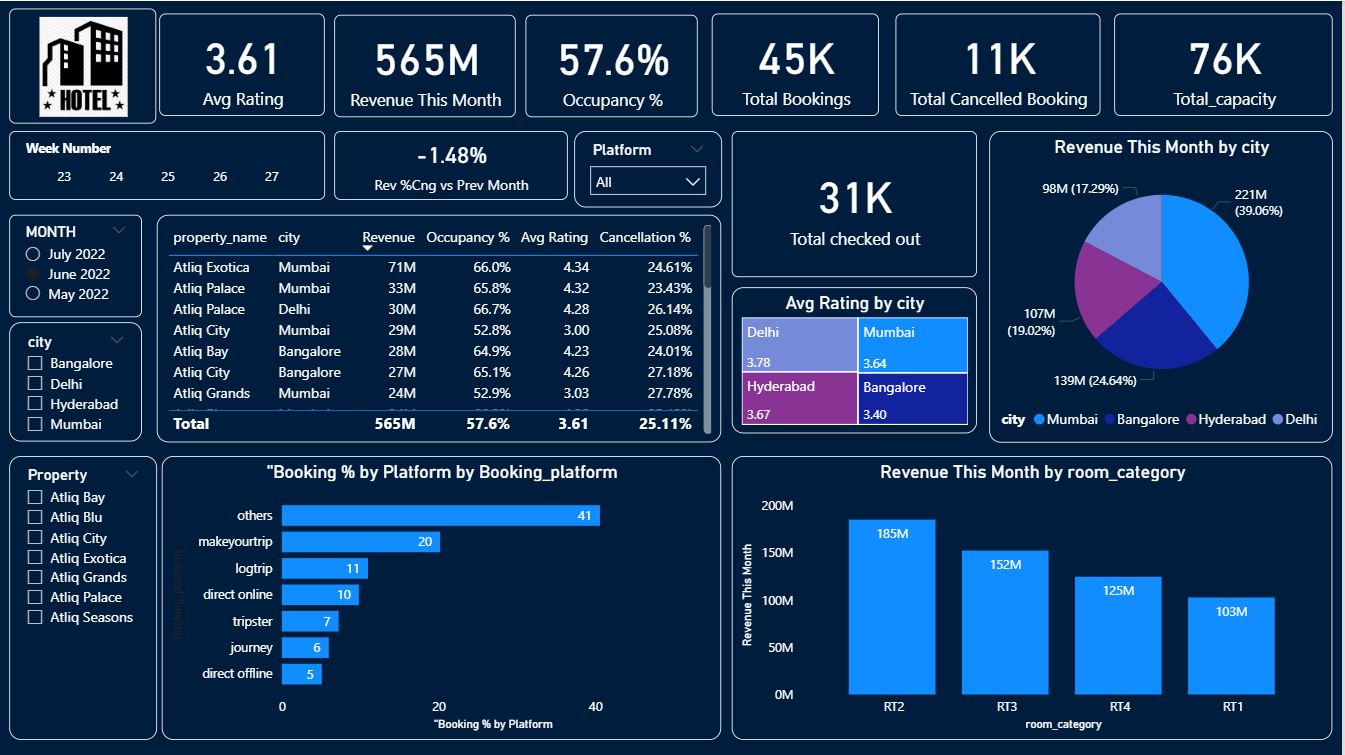

The dashboard page shown, as its layout file describes it:
{"tool":"powerbi","page":{"name":"Page 1","canvas":[1280,720],"ordinal":0},"visuals":[{"type":"barChart","fields":{"Category":["fact_bookings.booking_platform"],"Y":["key measures.\"Booking % by Platform"]},"box":[156.4,433.6,532.4,270.3],"z":0},{"type":"tableEx","fields":{"Values":["dim_hotels.property_name","dim_hotels.city","key measures.Revenue","key measures.Occupancy %","key measures.Avg Rating","key measures.Cancellation %"]},"box":[150.9,203.1,537.9,216.8],"z":1000},{"type":"slicer","fields":{"Values":["dim_hotels.city"]},"box":[11,306,126.2,113.9],"z":2000},{"type":"card","fields":{"Values":["key measures.Revenue This Month"]},"box":[320.2,13.1,172.6,97.6],"z":3000},{"type":"card","fields":{"Values":["key measures.Revenue % Change vs Prev Month"]},"box":[319.7,123.5,222.3,65.9],"z":4000},{"type":"slicer","fields":{"Values":["dim_date.mmm yy"]},"box":[11,203.1,126.2,97.4],"z":5000},{"type":"card","fields":{"Values":["key measures.Occupancy %"]},"box":[502.4,13.1,164.3,97.6],"z":6000},{"type":"card","fields":{"Values":["key measures.Avg Rating"]},"box":[153.7,12.3,157.8,97.4],"z":7000},{"type":"slicer","fields":{"Values":["dim_date.week number"]},"box":[11,123.5,300.5,65.9],"z":8000},{"type":"slicer","fields":{"Values":["fact_bookings.booking_platform"]},"box":[548.8,123.8,140.5,72.6],"z":9000},{"type":"slicer","fields":{"Values":["dim_hotels.property_name"]},"box":[10.7,433.3,140.5,270.2],"z":10000},{"type":"card","fields":{"Values":["key measures.Total Bookings"]},"box":[679.8,11.9,159.5,97.6],"z":11000},{"type":"card","fields":{"Values":["key measures.Total Cancelled Booking"]},"box":[854.8,11.9,195.2,97.6],"z":12000},{"type":"card","fields":{"Values":["key measures.Total_capacity"]},"box":[1063.1,11.9,208.3,97.6],"z":13000},{"type":"pieChart","fields":{"Y":["key measures.Revenue This Month"],"Category":["dim_hotels.city"]},"box":[944.1,123.8,327.4,296.4],"z":14000},{"type":"clusteredColumnChart","fields":{"Category":["fact_bookings.room_category"],"Y":["key measures.Revenue This Month"]},"box":[698.5,433.6,572.2,270.3],"z":15000},{"type":"image","box":[11,6.9,140,109.8],"z":16000},{"type":"treemap","fields":{"Group":["dim_hotels.city"],"Values":["key measures.Avg Rating"]},"box":[698.8,272.6,233.3,139.3],"z":17000},{"type":"card","fields":{"Values":["key measures.Total checked out"]},"box":[698.8,123.8,233.3,139.3],"z":18000}]}

Visuals, with their boxes in screenshot pixels (x1, y1, x2, y2), scaled from the page's 1280x720 canvas onto the 1345x755 screenshot:
barChart - fact_bookings.booking_platform x key measures."Booking % by Platform: x1=164 y1=455 x2=724 y2=738
tableEx - dim_hotels.property_name x dim_hotels.city: x1=159 y1=213 x2=724 y2=440
slicer - dim_hotels.city: x1=12 y1=321 x2=144 y2=440
card - key measures.Revenue This Month: x1=336 y1=14 x2=518 y2=116
card - key measures.Revenue % Change vs Prev Month: x1=336 y1=130 x2=570 y2=199
slicer - dim_date.mmm yy: x1=12 y1=213 x2=144 y2=315
card - key measures.Occupancy %: x1=528 y1=14 x2=701 y2=116
card - key measures.Avg Rating: x1=162 y1=13 x2=327 y2=115
slicer - dim_date.week number: x1=12 y1=130 x2=327 y2=199
slicer - fact_bookings.booking_platform: x1=577 y1=130 x2=724 y2=206
slicer - dim_hotels.property_name: x1=11 y1=454 x2=159 y2=738
card - key measures.Total Bookings: x1=714 y1=12 x2=882 y2=115
card - key measures.Total Cancelled Booking: x1=898 y1=12 x2=1103 y2=115
card - key measures.Total_capacity: x1=1117 y1=12 x2=1336 y2=115
pieChart - key measures.Revenue This Month x dim_hotels.city: x1=992 y1=130 x2=1336 y2=441
clusteredColumnChart - fact_bookings.room_category x key measures.Revenue This Month: x1=734 y1=455 x2=1335 y2=738
image: x1=12 y1=7 x2=159 y2=122
treemap - dim_hotels.city x key measures.Avg Rating: x1=734 y1=286 x2=979 y2=432
card - key measures.Total checked out: x1=734 y1=130 x2=979 y2=276
